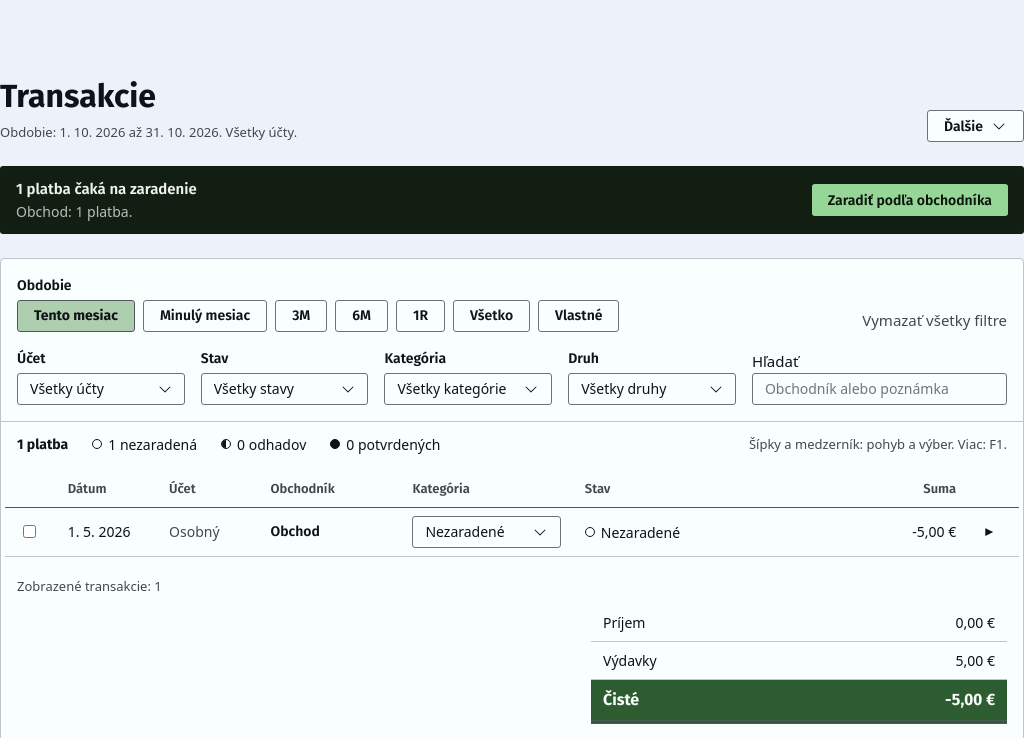
Scenario: Transactions integration: a note save settling after the filter changed › drops a row from the bulk selection once a note save makes it stop matching the text filter
The image size is (1024, 738).
(page scrolled)
Check: the text "Obchod" is shown, box [270,523,320,540]
Click the checkbox named "Vybrať transakciu 5" at (29, 532), box [22,525,36,538]
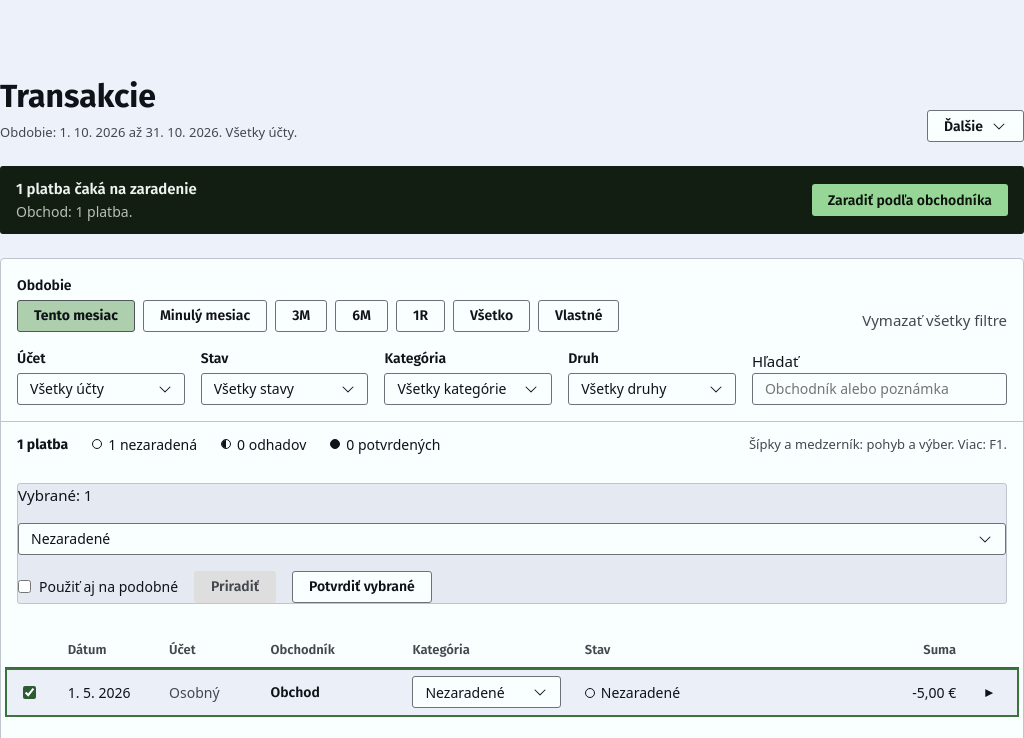
Check: the text "Vybrané: 1" is shown, box [18,484,92,507]
Click the button named "Detail transakcie 5" at (989, 692), box [980,676,997,708]
(page scrolled)
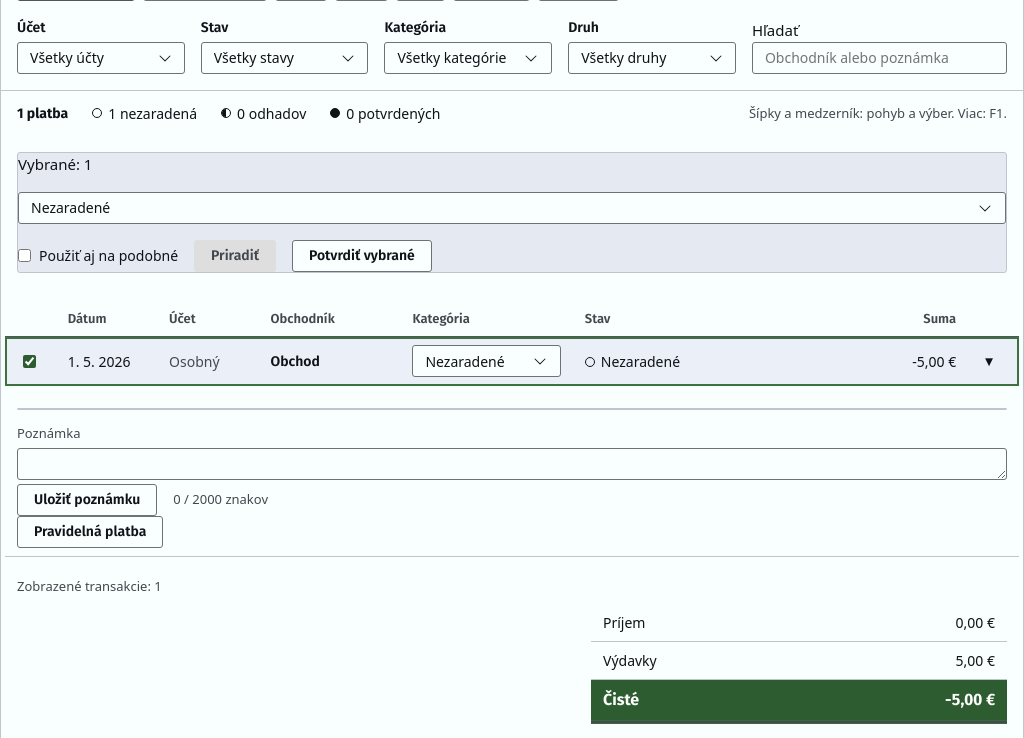
Type "uz nesedi filtru" into the text box named "Poznámka k transakcii 5" at (512, 464), box [17,448,1007,480]
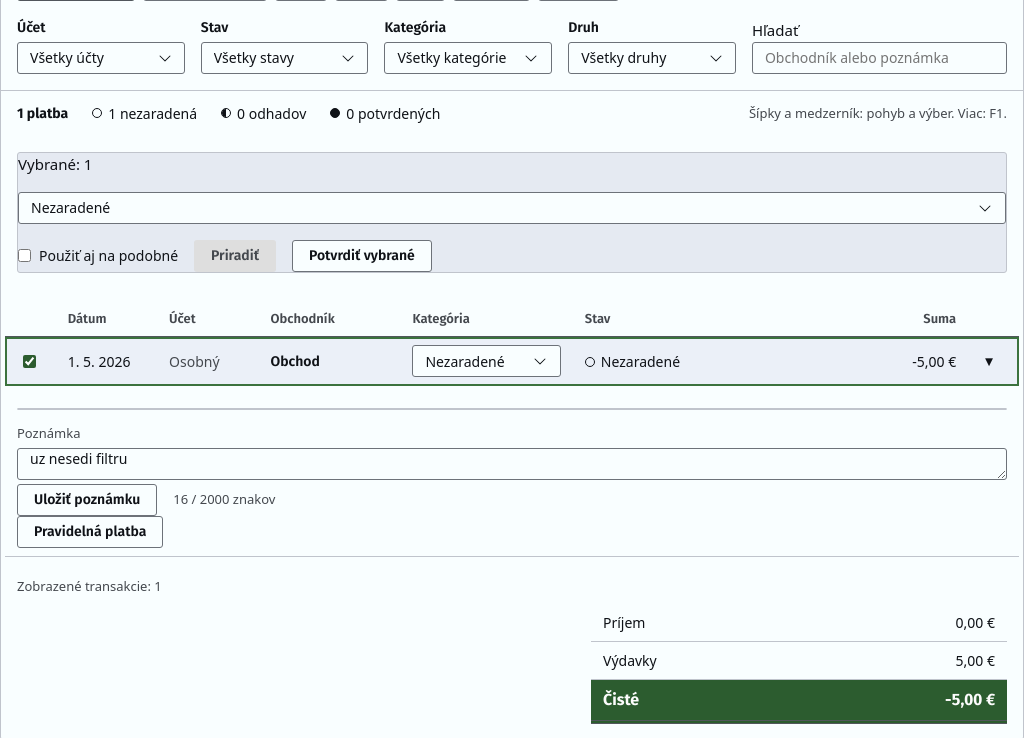
Click the button "Uložiť poznámku" at (87, 500), box [17,484,157,516]
(page scrolled)
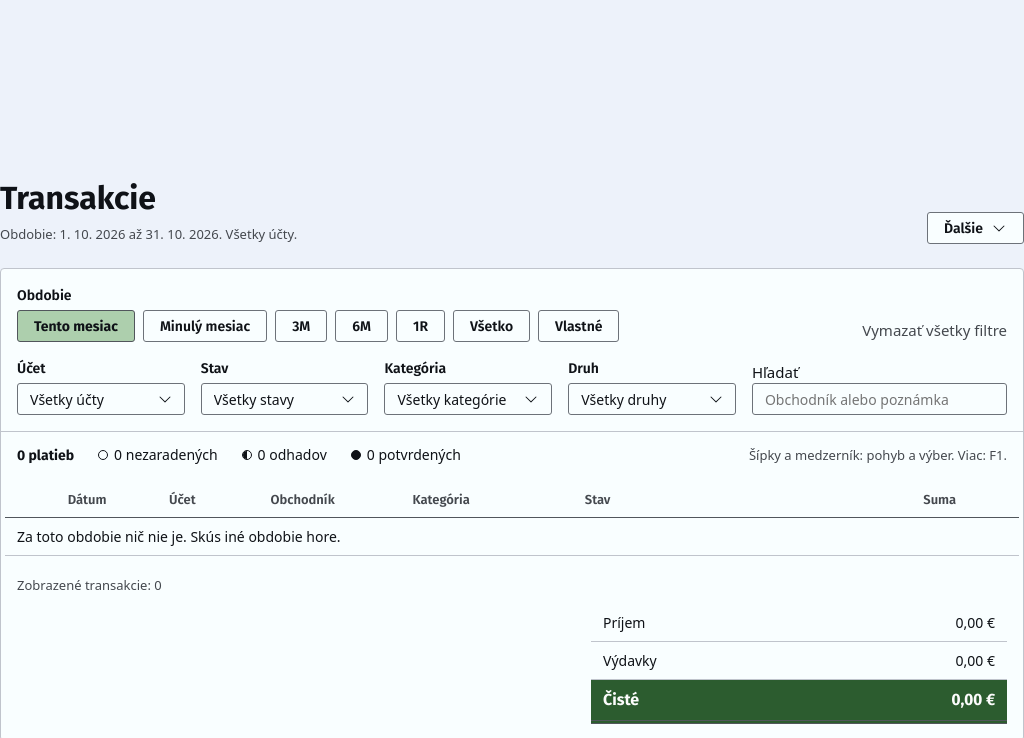
Check: the text "Vybrané: 1" is gone
